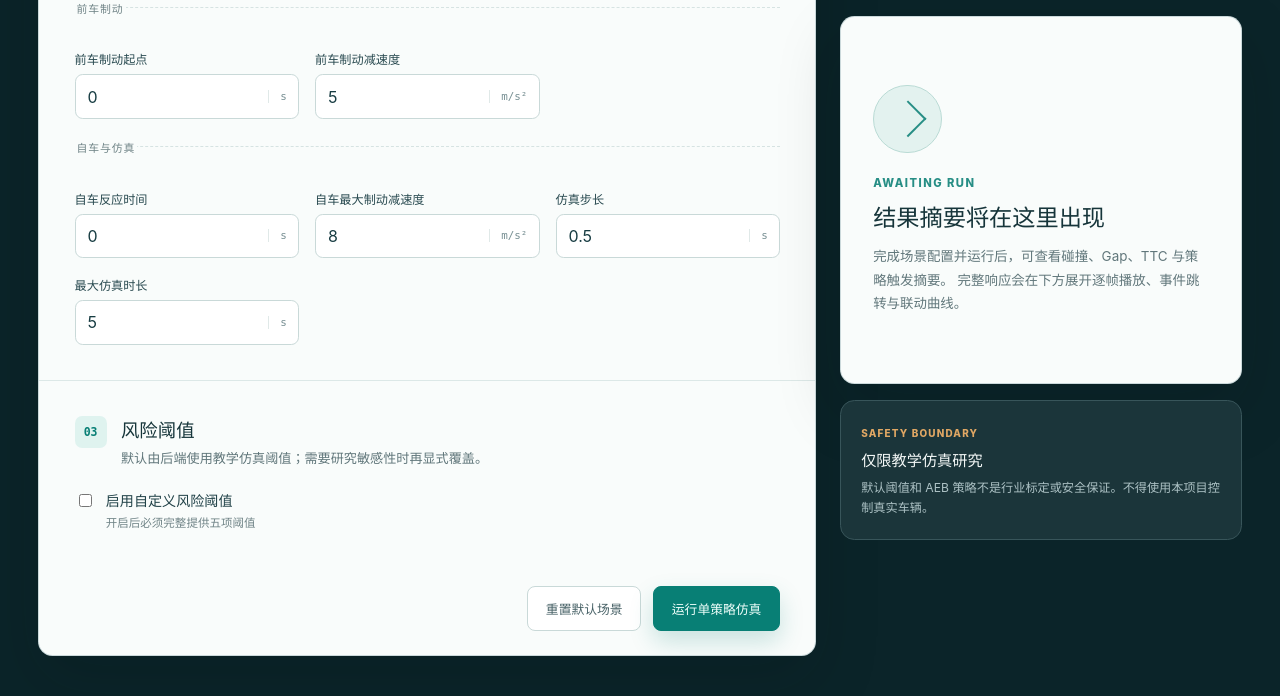
Dashboard configuration workflow › clears a completed summary after a configuration change
The width and height of the screenshot is (1280, 696).
(page scrolled)
Click the button "运行单策略仿真".
click(717, 609)  # box [653,586,780,631]
(page scrolled)
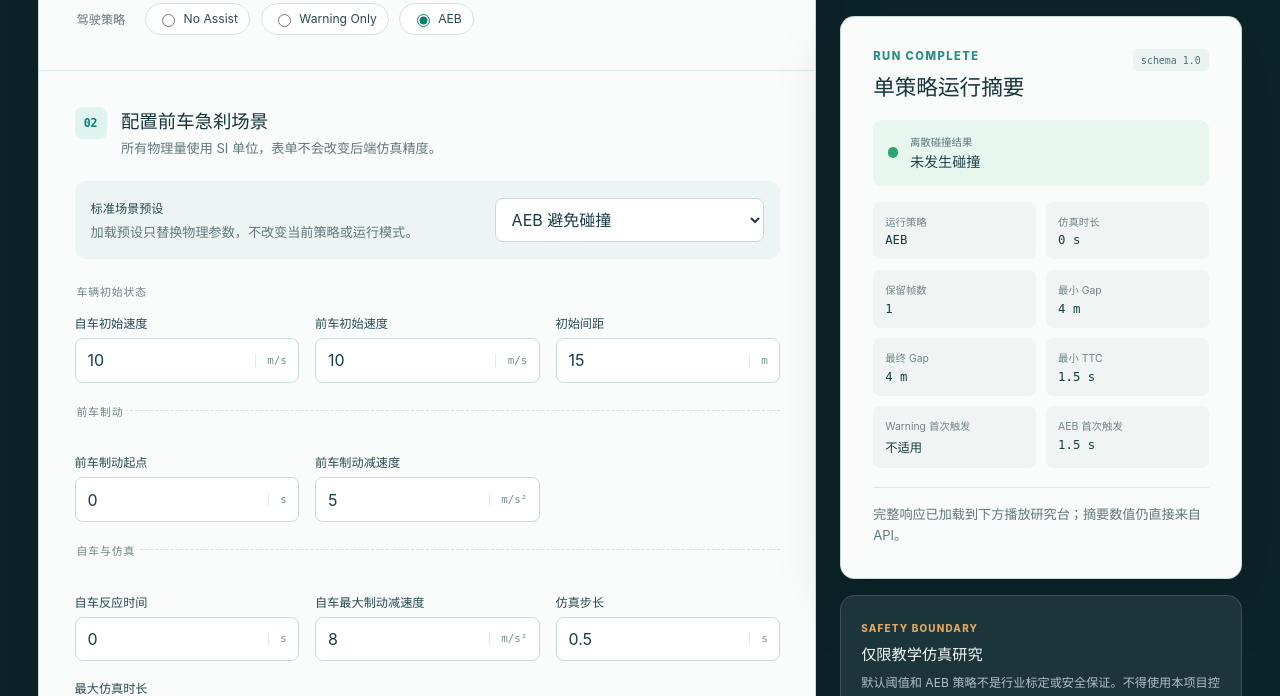
Now the heading "单策略运行摘要" is shown, box [873,69,1024,100]
Replace the text in the number field labelled "初始间距" with "16" at (653, 360), box [556,339,749,382]
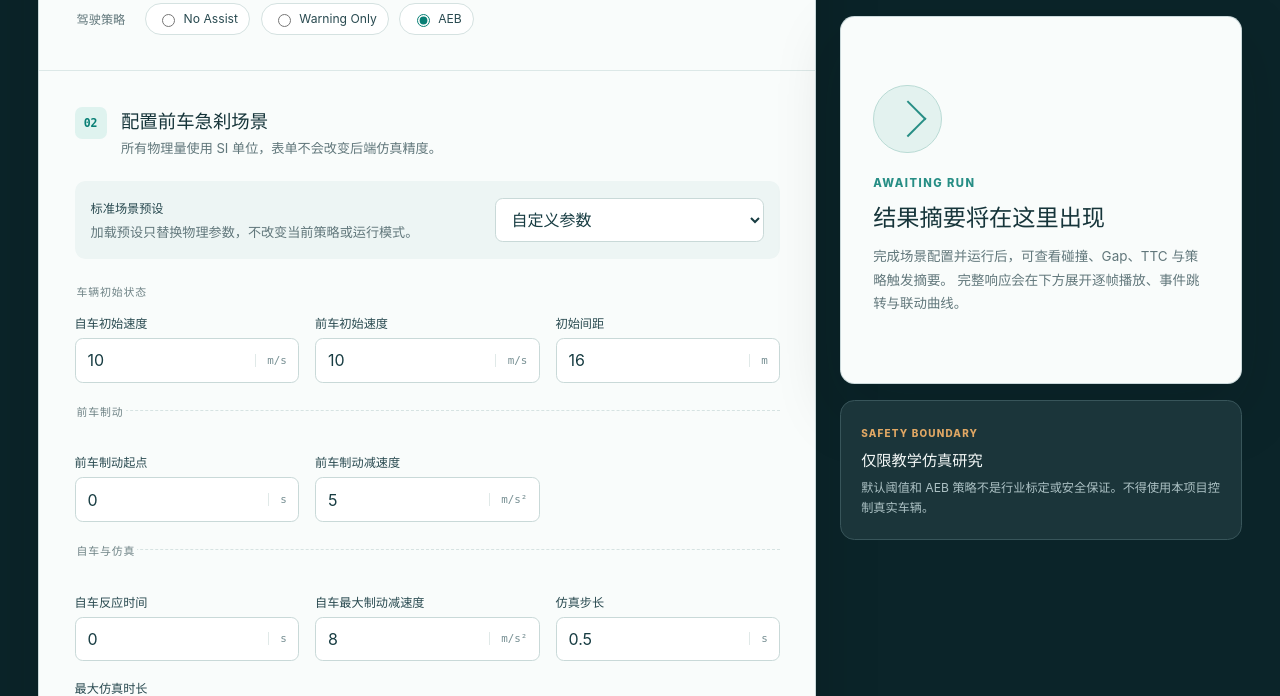
Now the heading "单策略运行摘要" is gone
Now the heading "结果摘要将在这里出现" is shown, box [873,203,1105,231]
